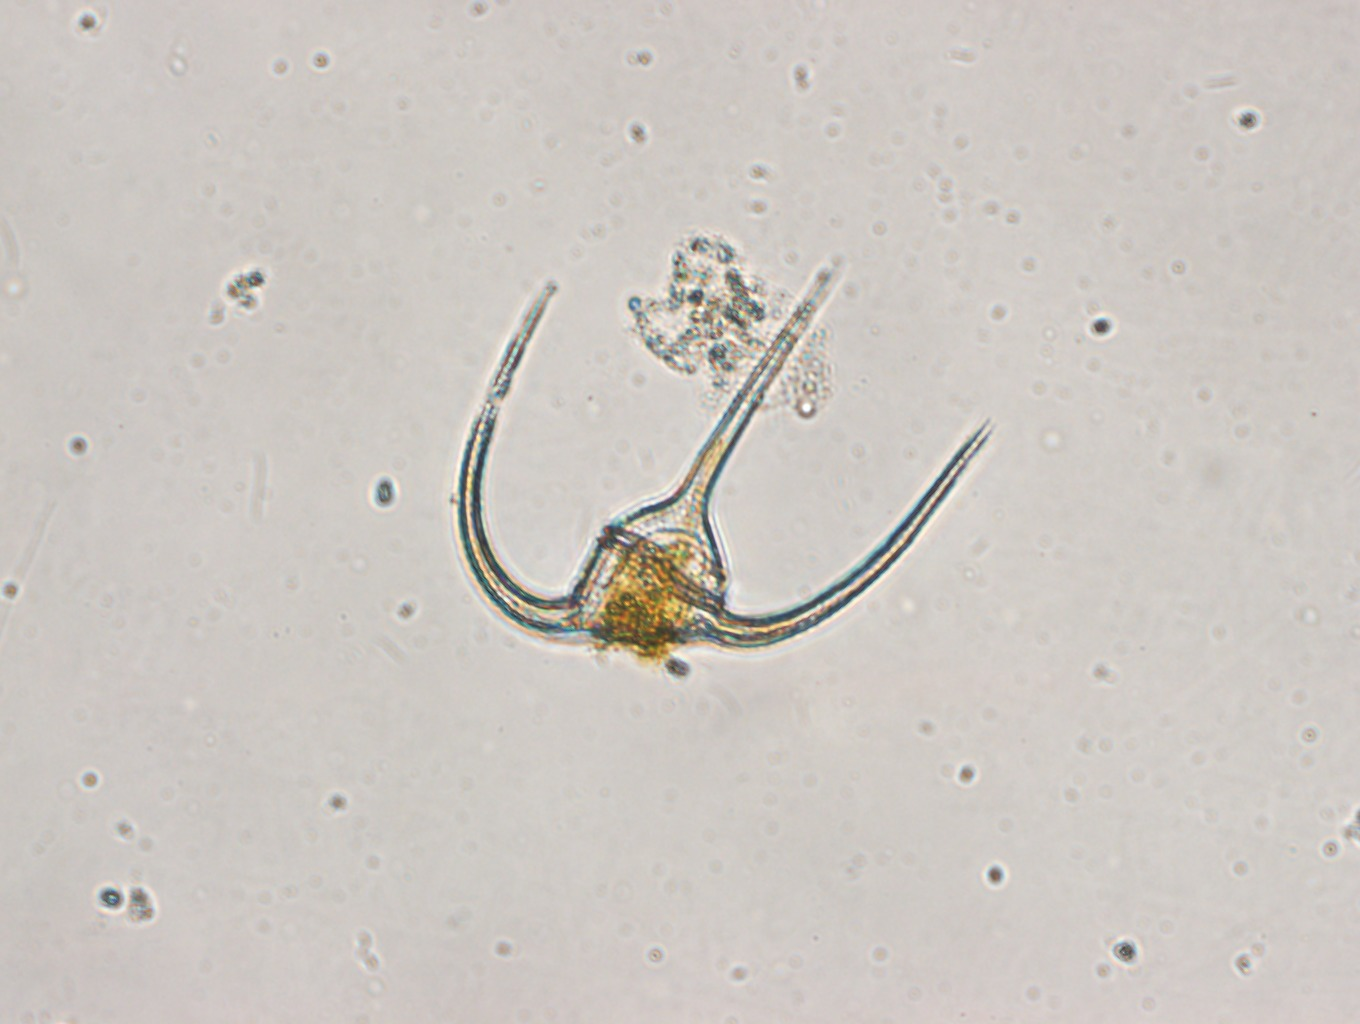ceratium trichoceros: (445, 246, 992, 669)
